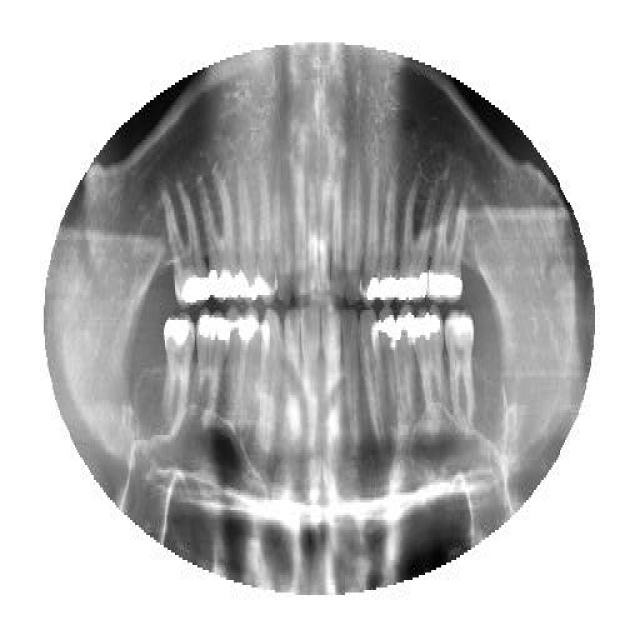Fillings: (164, 185, 206, 315), (198, 170, 240, 300), (162, 312, 196, 438), (398, 178, 433, 300), (412, 310, 446, 435), (429, 190, 465, 302), (195, 313, 227, 435), (256, 165, 276, 305), (375, 310, 397, 435), (395, 305, 416, 435), (239, 308, 260, 438), (361, 168, 380, 308), (380, 175, 399, 305), (238, 170, 256, 302), (321, 280, 325, 282)
